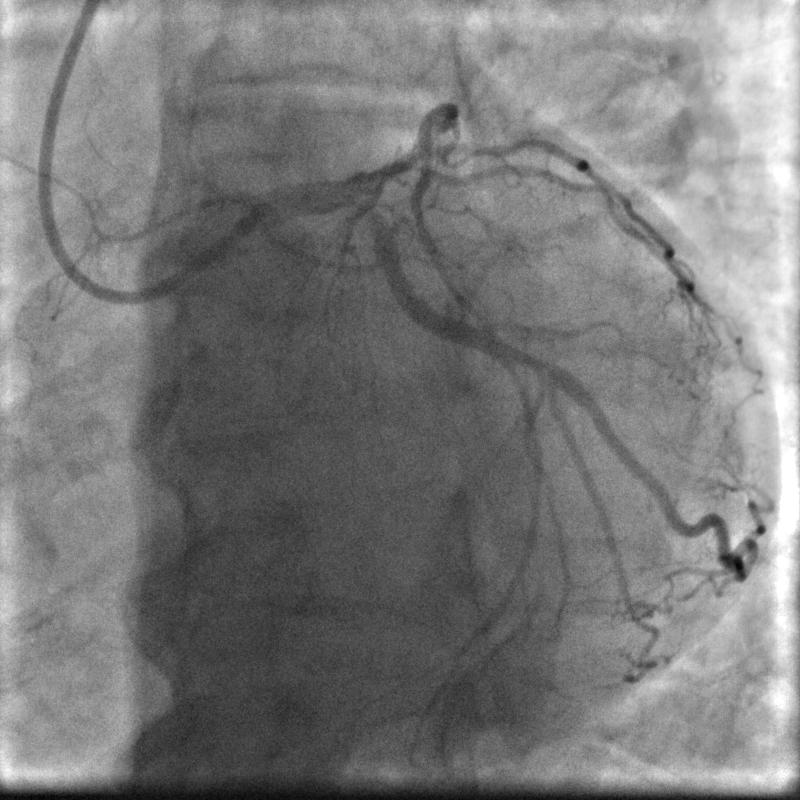Stenosis: (516, 350, 553, 374)
